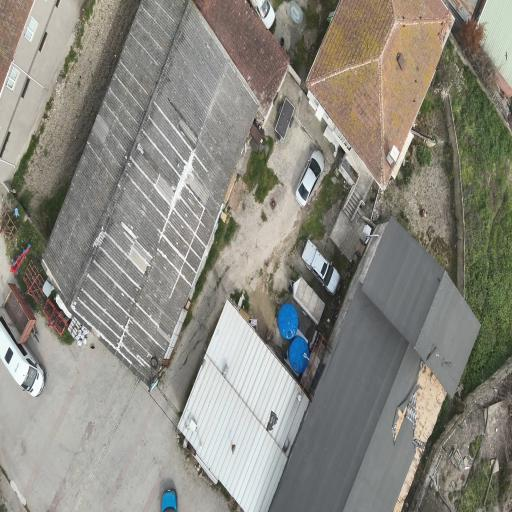bus: (0, 316, 45, 396)
car: (302, 240, 340, 294), (296, 150, 324, 206), (162, 489, 177, 511)
truck: (292, 278, 324, 324), (251, 0, 275, 29)
